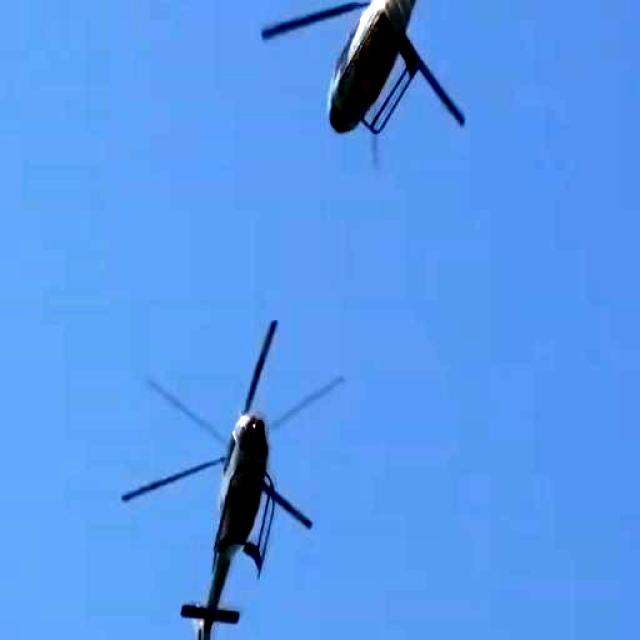drone: (124, 324, 318, 640), (262, 0, 492, 178)
